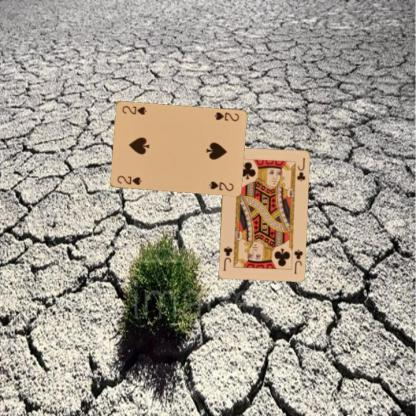2s: (114, 173, 143, 186), (211, 110, 240, 122)
Jc: (291, 247, 304, 275)
